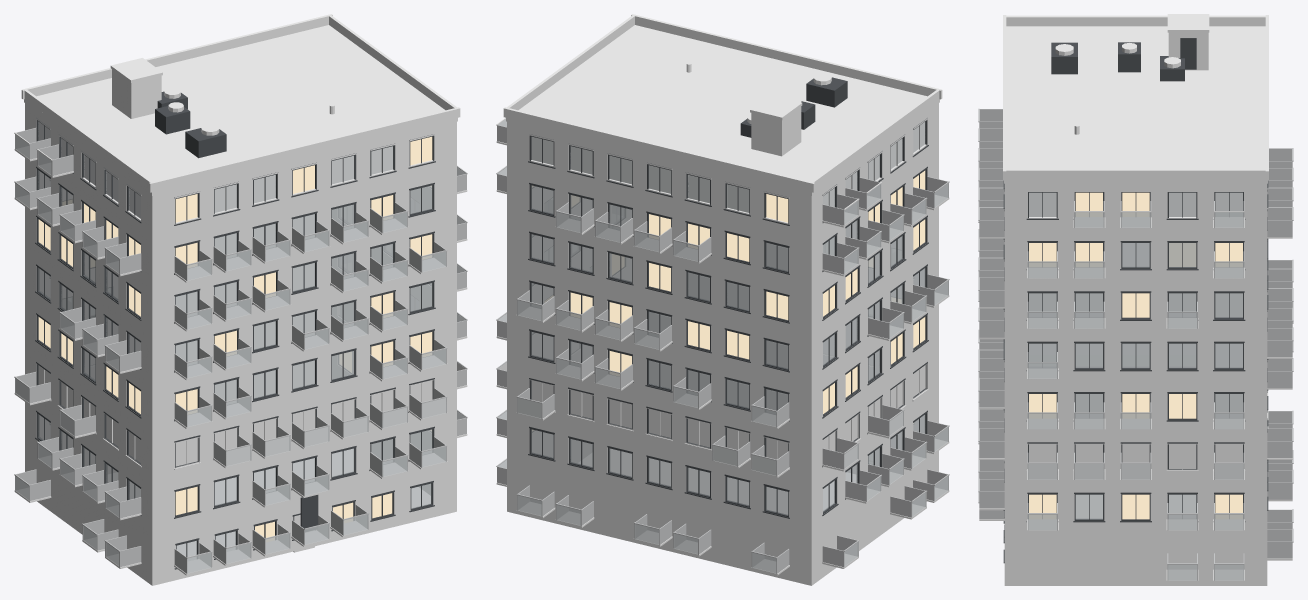
Rendered from Resmodern_residential_0000001.glb.
3 renders of one model, left to right at view 1: azimuth 30°, elevation 25°; view 2: azimuth 150°, elevation 25°; view 3: azimuth 270°, elevation 25°, orthographic. The views are drawn at different scales.
Parts seen in each view (by area): view 1: Resmodern_residential_0000001; view 2: Resmodern_residential_0000001; view 3: Resmodern_residential_0000001.
Boxes of the visible parts, x1,y1,x2,y2 form: Resmodern_residential_0000001: [14, 14, 467, 585]; Resmodern_residential_0000001: [496, 14, 949, 585]; Resmodern_residential_0000001: [978, 14, 1293, 585].
Size of the model in its own units: 22.84 by 27.25 by 17.34.
